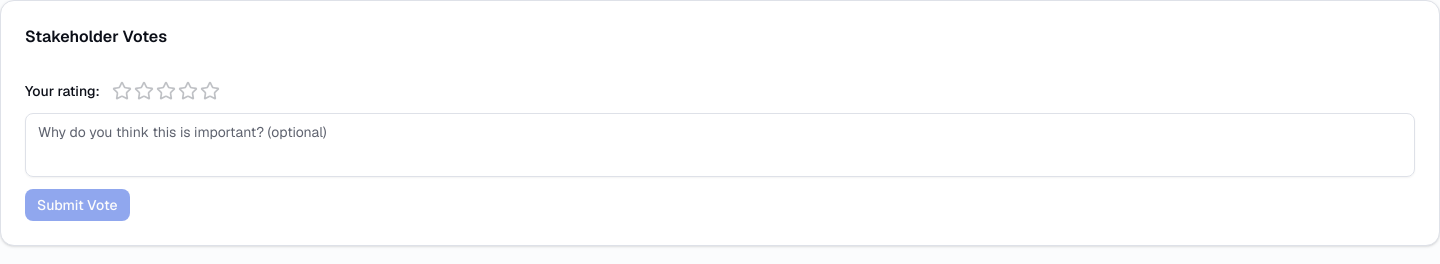
Test: VoteWidget › star selection › should show "X/5" label after a star is clicked
This screenshot has width=1440, height=264.
What coordinates should you click on to do the following:
click the button named "Rate 4 of 5"
I would click on:
 (188, 91)
Its box is [178,81,198,101].
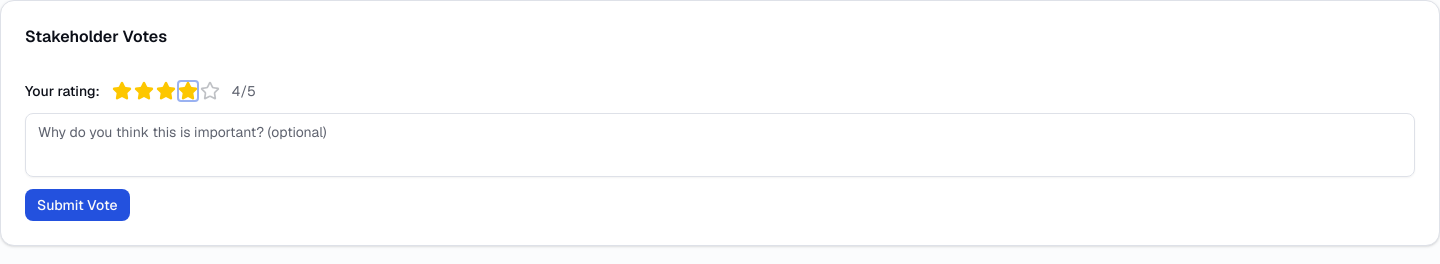
Expected: the text "4/5" is shown, [232,81,256,101]
